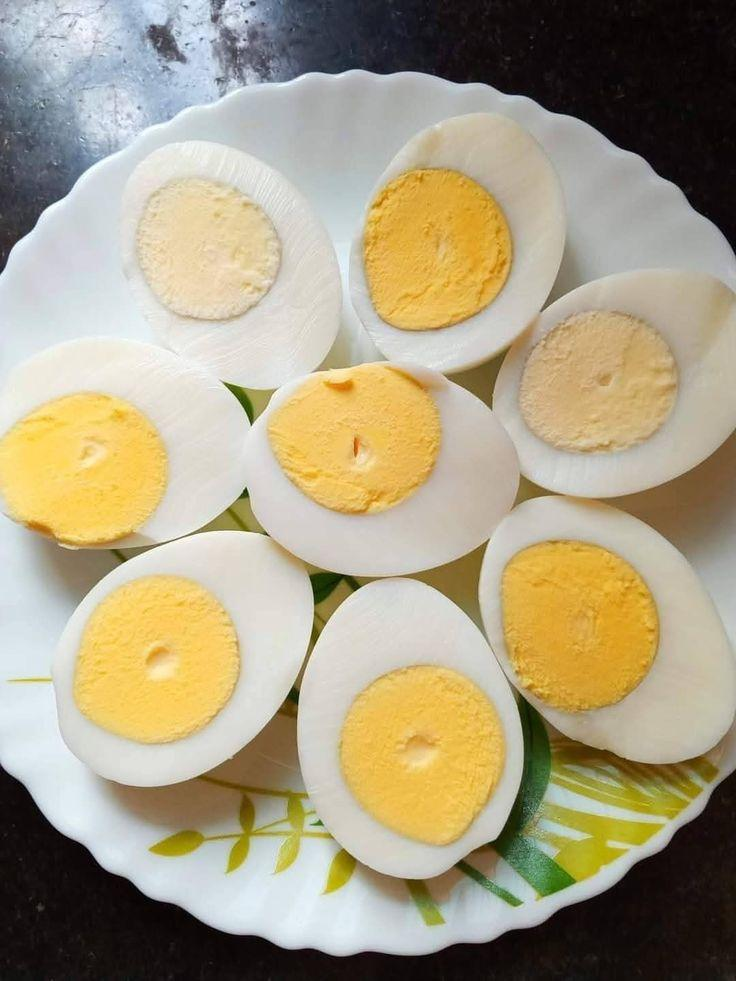eggs: (95, 138, 706, 805)
